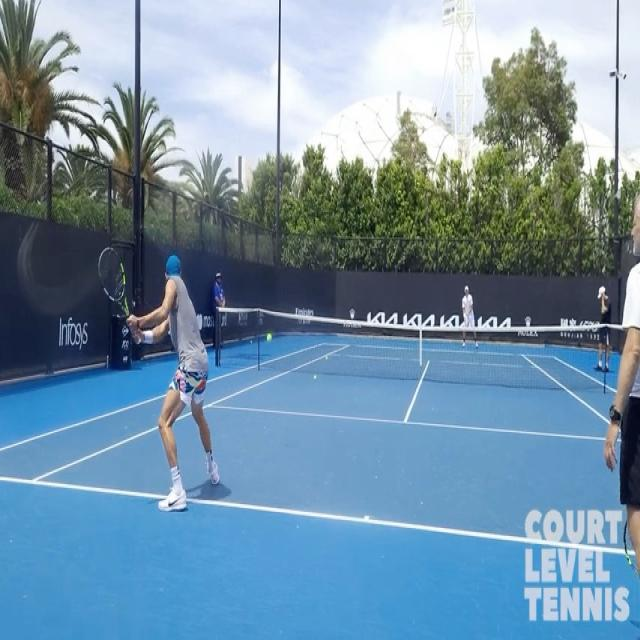backhand-ready: (92, 224, 214, 520)
